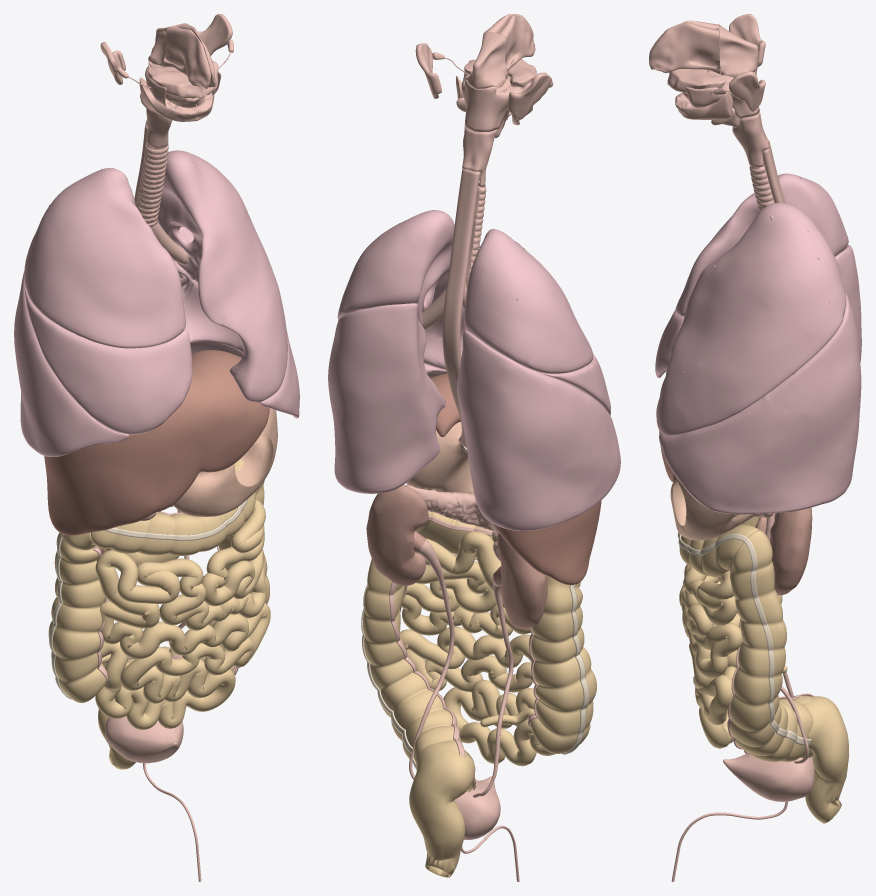
File: organs.glb
3 renders of one model, left to right at view 1: azimuth 30°, elevation 25°; view 2: azimuth 150°, elevation 25°; view 3: azimuth 270°, elevation 25°, orthographic. The views are drawn at different scales.
Parts seen in each view (by area): view 1: Jejunum.001, Superior lobe of right lung.001, Liver.001, Superior lobe of left lung.001, Middle lobe of right lung.001, Ascending colon.001, Inferior lobe of right lung.001, Transverse colon.001, Stomach.001, Inferior lobe of left lung.001, Urinary bladder.001, Gingiva.001 (+7 smaller); view 2: Inferior lobe of right lung.001, Inferior lobe of left lung.001, Jejunum.001, Superior lobe of right lung.001, Superior lobe of left lung.001, Ascending colon.001, Descending colon.001, Sigmoid colon.001, Liver.001, Kidney.l.001, Oesophagus.001, Kidney.r.001 (+18 smaller); view 3: Superior lobe of left lung.001, Inferior lobe of left lung.001, Descending colon.001, Jejunum.001, Superior lobe of right lung.001, Sigmoid colon.001, Mucosa of nasal cavity.001, Urinary bladder.001, Kidney.l.001, Stomach.001, Gingiva.001, Mesocolic taenia.001 (+11 smaller).
Part boxes in pixels (bbox=[...]): Jejunum.001: bbox=[95, 500, 270, 729]; Superior lobe of right lung.001: bbox=[24, 168, 185, 348]; Liver.001: bbox=[44, 350, 269, 535]; Superior lobe of left lung.001: bbox=[157, 150, 287, 402]; Middle lobe of right lung.001: bbox=[24, 287, 192, 434]; Ascending colon.001: bbox=[48, 532, 106, 702]; Inferior lobe of right lung.001: bbox=[14, 271, 129, 456]; Transverse colon.001: bbox=[91, 459, 259, 555]; Stomach.001: bbox=[173, 408, 277, 516]; Inferior lobe of left lung.001: bbox=[174, 227, 299, 418]; Urinary bladder.001: bbox=[105, 716, 183, 763]; Gingiva.001: bbox=[139, 60, 218, 121]; Inferior lobe of right lung.001: bbox=[457, 330, 620, 530]; Inferior lobe of left lung.001: bbox=[328, 303, 446, 493]; Jejunum.001: bbox=[400, 538, 554, 766]; Superior lobe of right lung.001: bbox=[464, 229, 593, 373]; Superior lobe of left lung.001: bbox=[337, 210, 464, 369]; Ascending colon.001: bbox=[530, 576, 596, 753]; Descending colon.001: bbox=[362, 559, 475, 791]; Sigmoid colon.001: bbox=[409, 742, 475, 877]; Liver.001: bbox=[430, 373, 601, 584]; Kidney.l.001: bbox=[366, 485, 428, 585]; Oesophagus.001: bbox=[442, 168, 479, 448]; Kidney.r.001: bbox=[497, 533, 547, 628]; Superior lobe of left lung.001: bbox=[656, 202, 846, 435]; Inferior lobe of left lung.001: bbox=[659, 291, 861, 514]; Descending colon.001: bbox=[729, 530, 813, 761]; Jejunum.001: bbox=[679, 564, 743, 748]; Superior lobe of right lung.001: bbox=[675, 173, 848, 316]; Sigmoid colon.001: bbox=[803, 696, 848, 823]; Mucosa of nasal cavity.001: bbox=[649, 20, 720, 74]; Urinary bladder.001: bbox=[723, 754, 814, 801]; Kidney.l.001: bbox=[770, 507, 812, 595]; Stomach.001: bbox=[670, 478, 755, 540]; Gingiva.001: bbox=[667, 69, 732, 119]; Mesocolic taenia.001: bbox=[677, 532, 811, 745].
Size of the model in its own units: 0.261 by 0.8527 by 0.1913.
